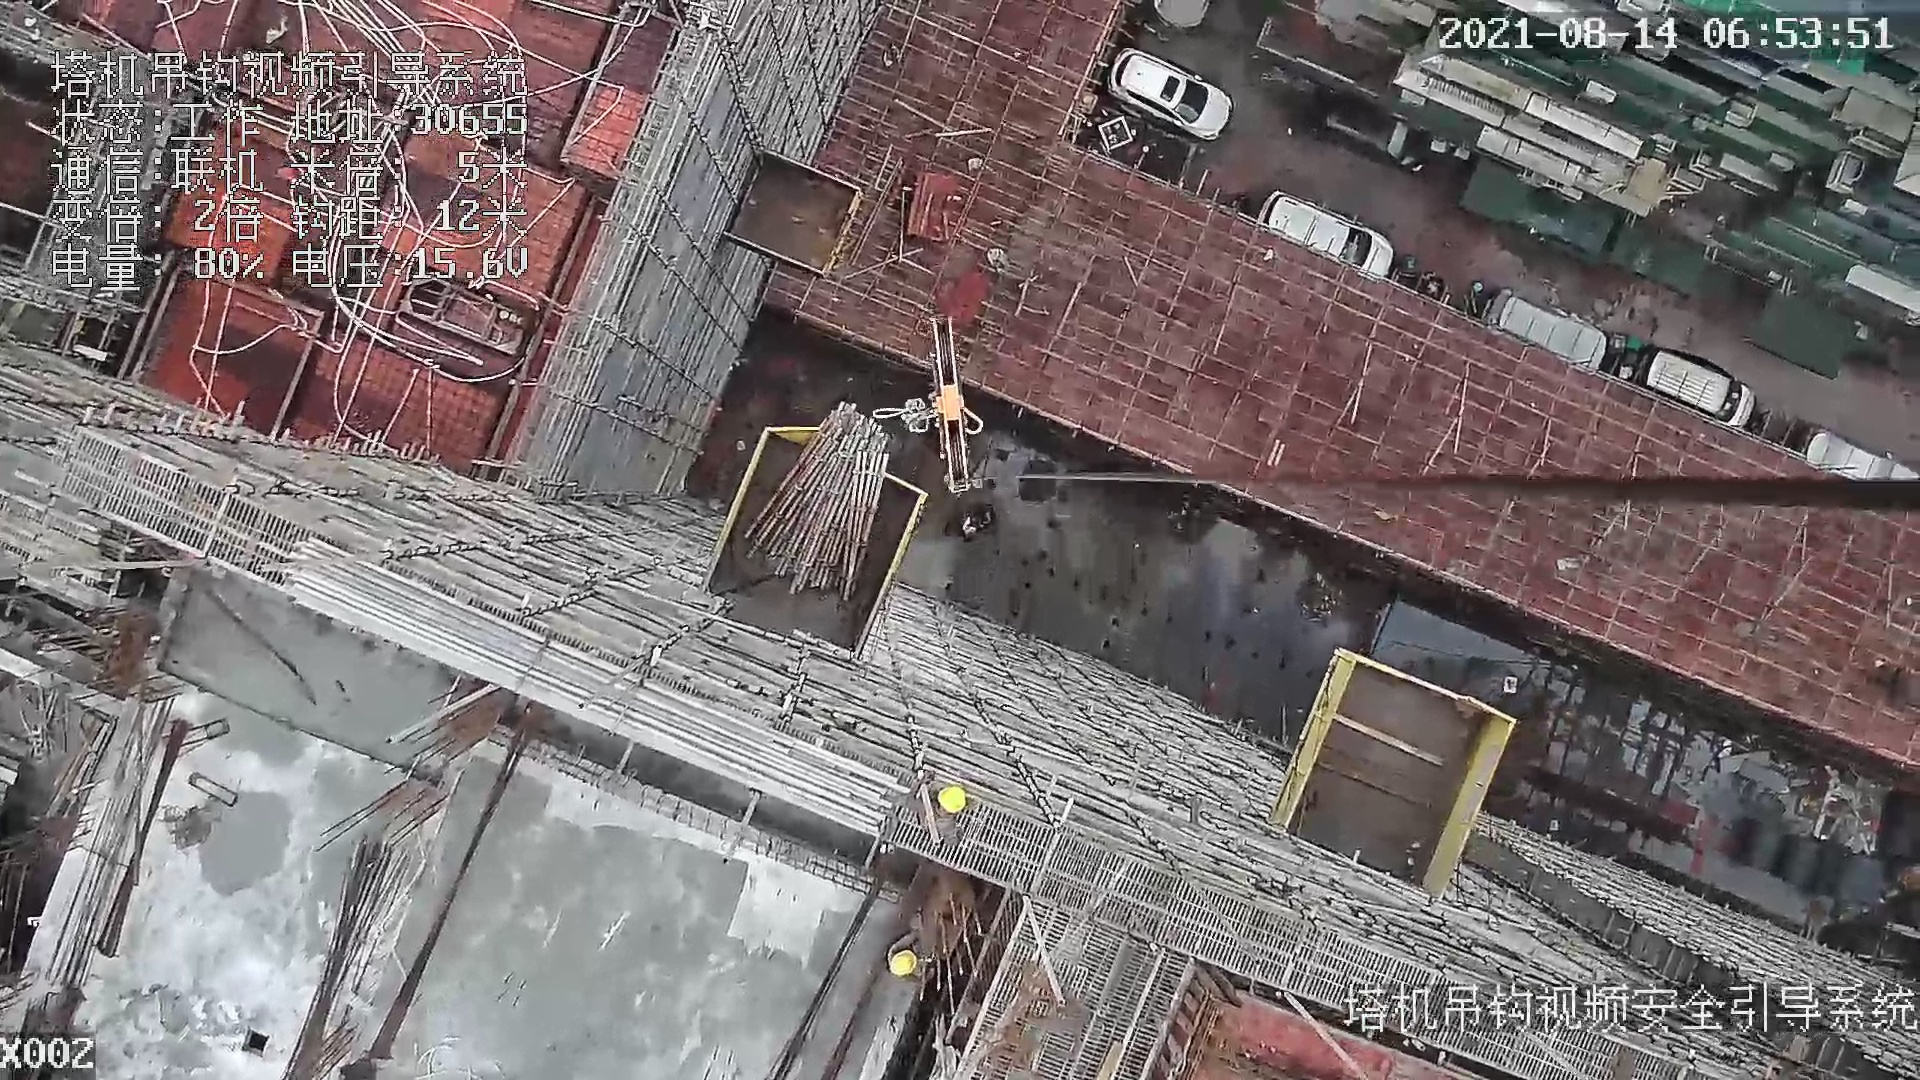helmet: (938, 787, 966, 813), (889, 950, 917, 976)
hook: (927, 308, 991, 499)
person: (906, 773, 978, 851), (879, 931, 946, 987)
rebar: (275, 537, 897, 842)
scaffold: (745, 404, 886, 600)
